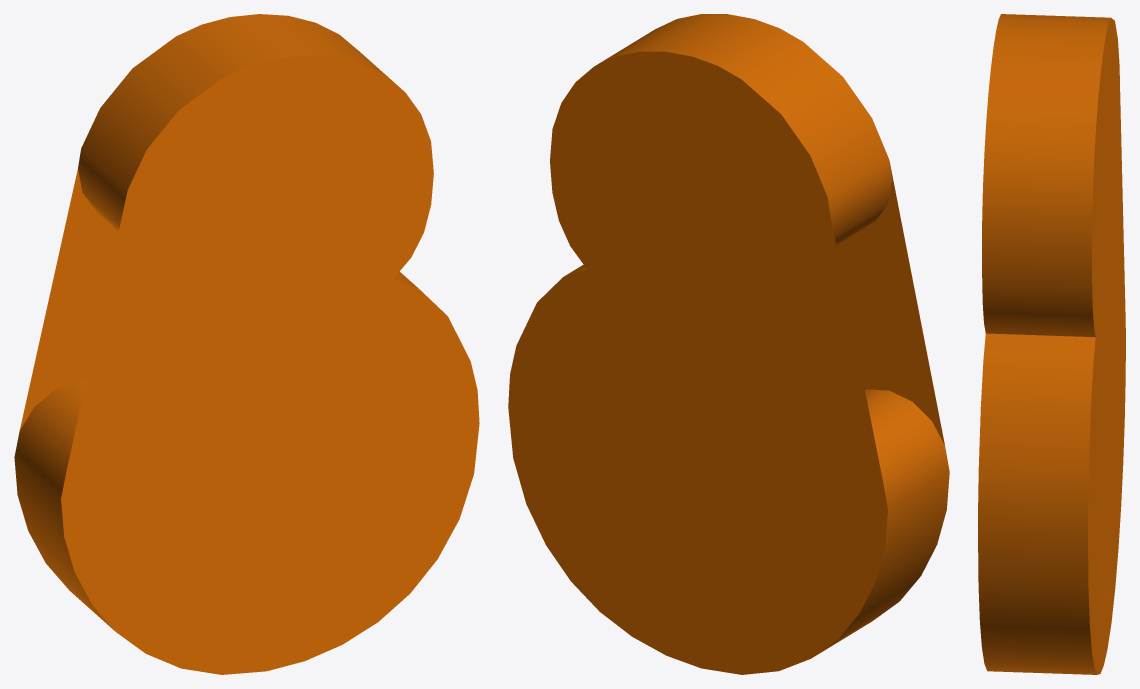
Rendered from choice2.fbx.
The picture shows the model from 3 angles, left to right: view 1: azimuth 30°, elevation 25°; view 2: azimuth 150°, elevation 25°; view 3: azimuth 270°, elevation 25°; orthographic projection.
Parts seen in each view (by area): view 1: Model; view 2: Model; view 3: Model.
Boxes of the visible parts, left/top/right/bottom form: Model: left=14, top=14, right=479, bottom=674; Model: left=508, top=14, right=949, bottom=674; Model: left=978, top=14, right=1125, bottom=674.
Size of the model in its own units: 34.58 by 49.56 by 10.73.
